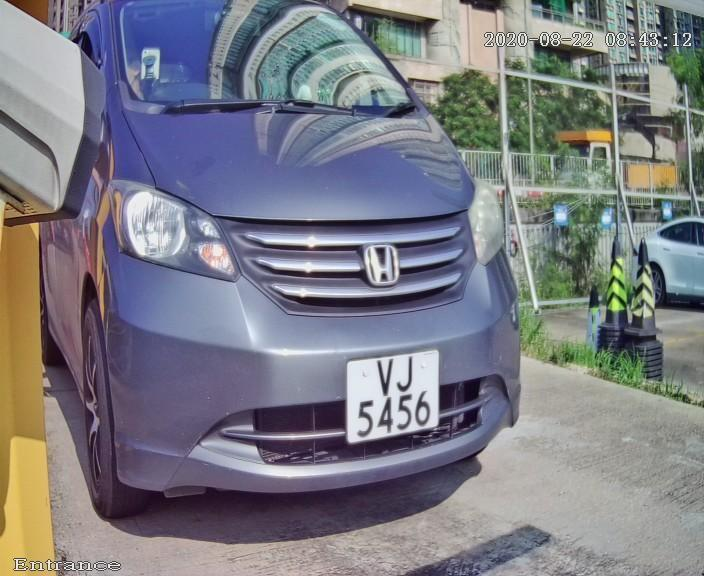License Plate: (334, 345, 450, 451)
